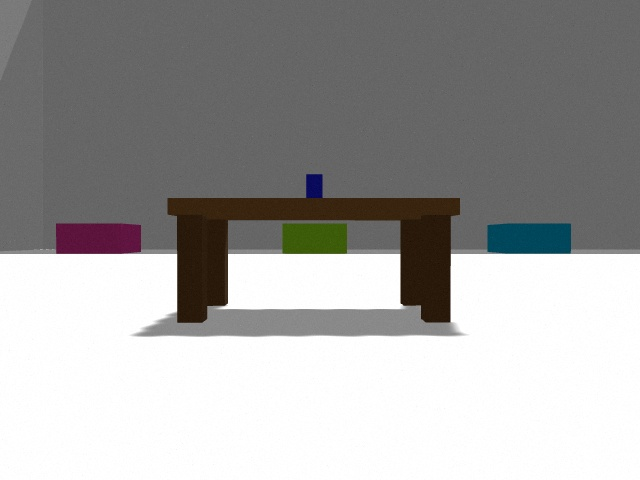blue_cube: (306, 174, 323, 198)
blue_drop_zone: (487, 223, 571, 254)
green_drop_zone: (282, 223, 347, 254)
red_drop_zone: (56, 223, 141, 254)
